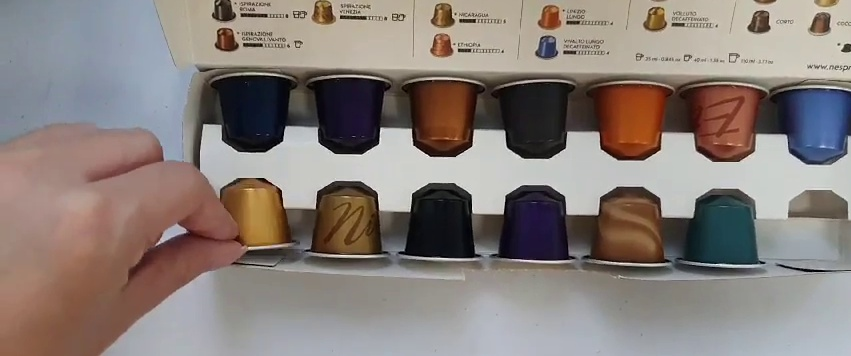capsule_8: (214, 176, 301, 253)
